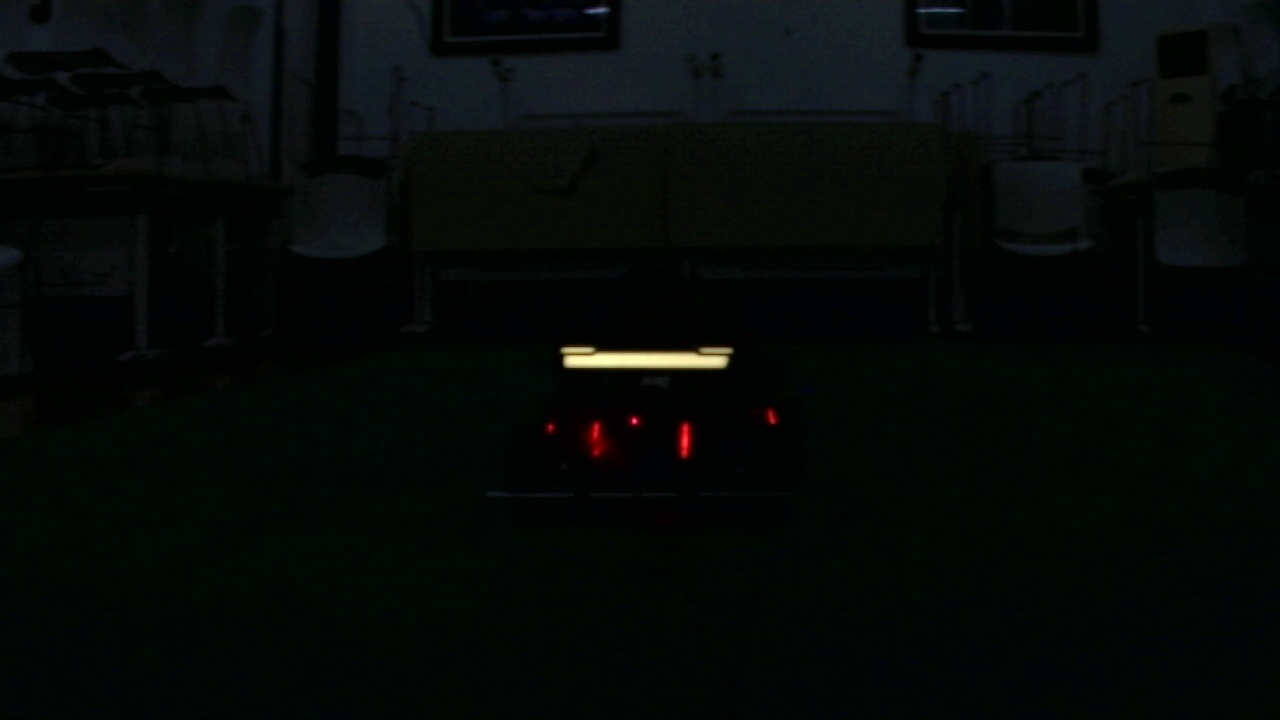lamp: (585, 416, 607, 453), (674, 417, 692, 459)
pair1: (588, 421, 689, 460)
